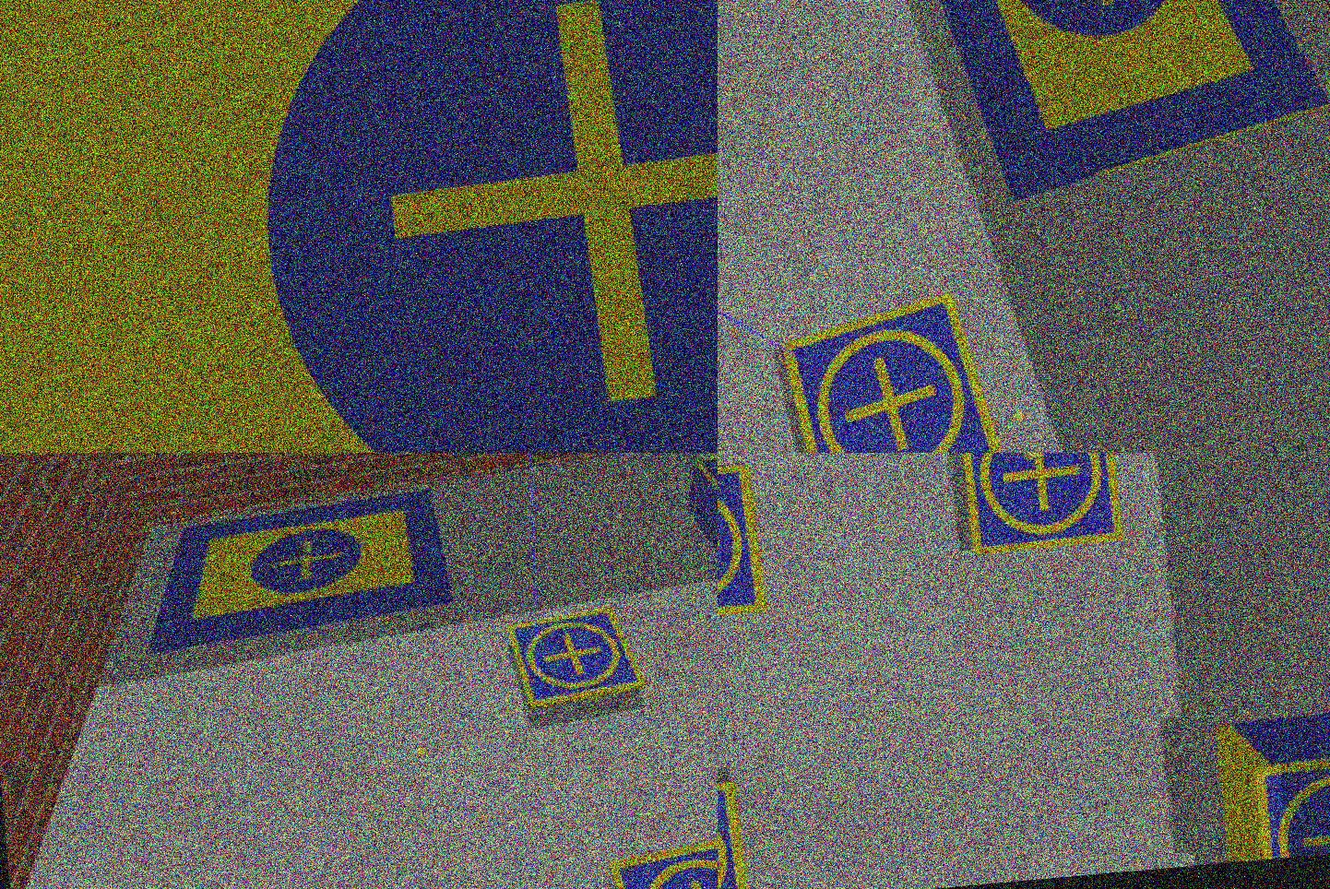large_base: (1, 1, 718, 454), (880, 1, 1330, 212), (139, 491, 460, 653)
small_base: (774, 290, 1012, 454), (956, 454, 1126, 558), (505, 605, 649, 710), (718, 462, 768, 631), (1254, 751, 1330, 860)
